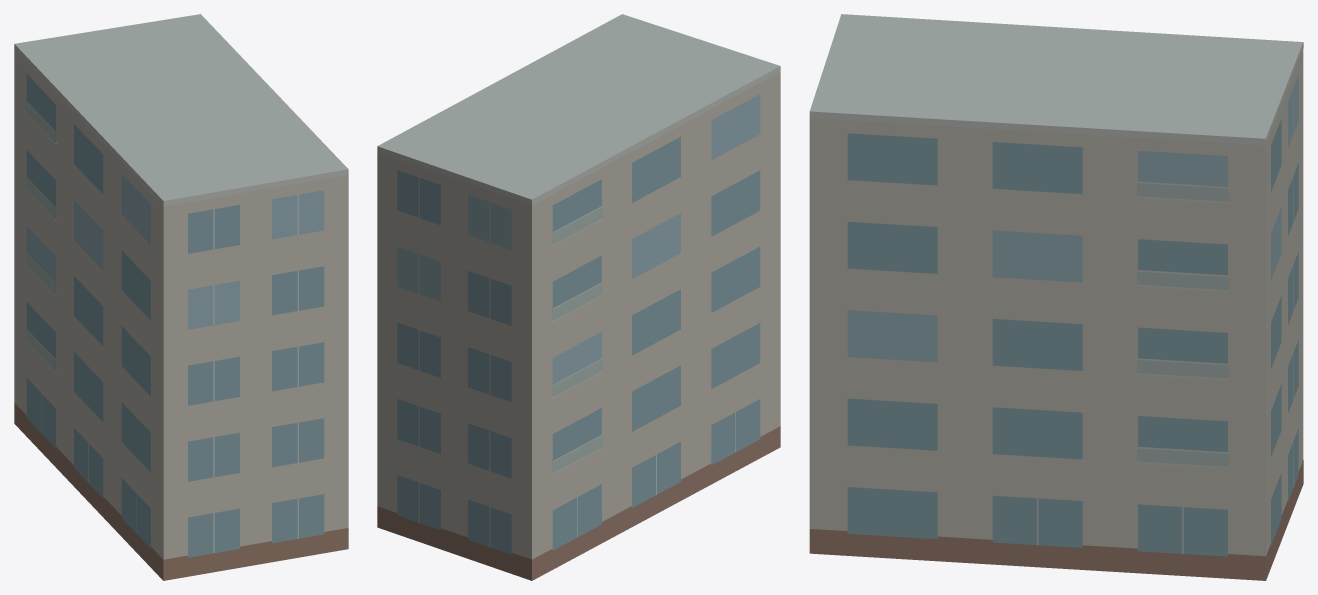
The model's file is survey-upis-32493206.glb.
The picture shows the model from 3 angles, left to right: view 1: azimuth 30°, elevation 25°; view 2: azimuth 150°, elevation 25°; view 3: azimuth 270°, elevation 25°; orthographic projection. The views are drawn at different scales.
Visible parts, largest first — view 1: survey-upis-32493206.tmp; view 2: survey-upis-32493206.tmp; view 3: survey-upis-32493206.tmp.
Boxes of the visible parts, <box> form: survey-upis-32493206.tmp: <box>14,14,348,580</box>; survey-upis-32493206.tmp: <box>377,14,780,580</box>; survey-upis-32493206.tmp: <box>809,14,1303,580</box>.
Bounding box in the file's own units: 9.93 × 16.4 × 16.61.
